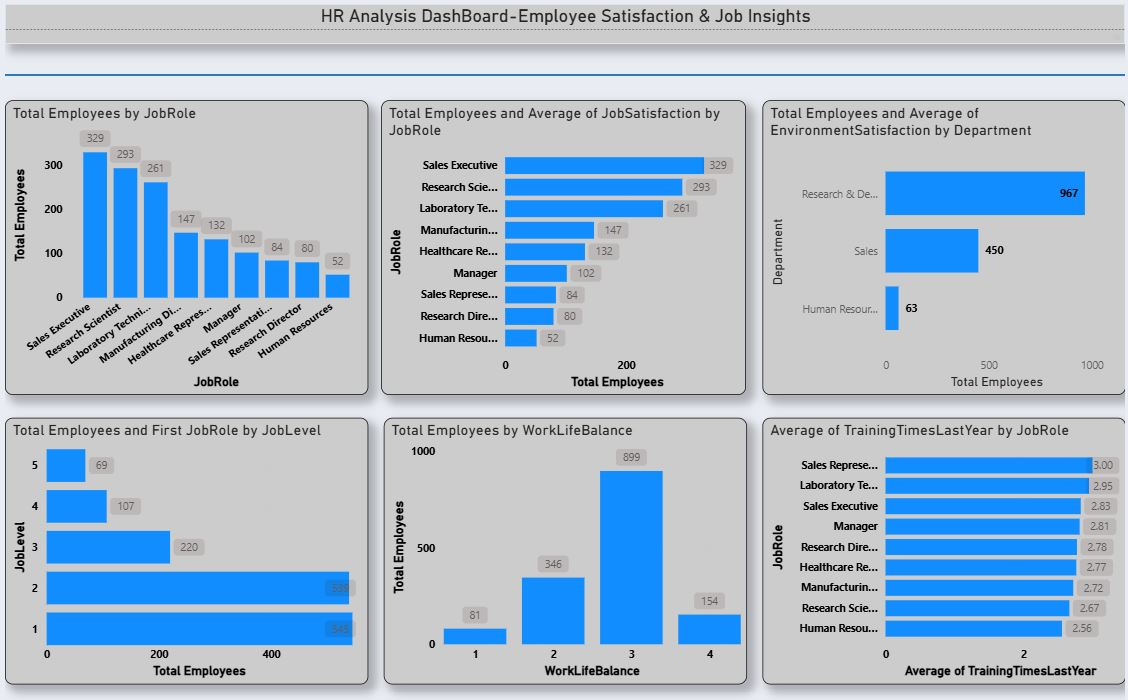

This screenshot's page, from the dashboard's own definition file:
{"tool":"powerbi","page":{"name":"Satisfaction & Job Insights","canvas":[1280,800],"ordinal":2},"visuals":[{"type":"textbox","title":"HR Analysis DashBoard-Employee Satisfaction & Job Insights","box":[0,0,1280.3,45.3],"z":0},{"type":"shape","box":[0,73.1,1280.3,16.6],"z":2000},{"type":"clusteredColumnChart","fields":{"Category":["HR_Analytics.JobRole"],"Y":["HR_Measure.Total Employees"]},"box":[0,110.4,415.3,336.6],"z":10000},{"type":"barChart","fields":{"Category":["HR_Analytics.JobRole"],"Y":["HR_Measure.Total Employees"]},"box":[430.4,110.4,416.6,336.6],"z":11000},{"type":"barChart","fields":{"Y":["HR_Measure.Total Employees"],"Category":["HR_Analytics.Department"]},"box":[865,110.4,415.3,336.6],"z":12000},{"type":"barChart","fields":{"Category":["HR_Analytics.JobLevel"],"Y":["HR_Measure.Total Employees"]},"box":[0,473.2,415.3,304.9],"z":13000},{"type":"clusteredBarChart","fields":{"Category":["HR_Analytics.JobRole"],"Y":["Avg(HR_Analytics.TrainingTimesLastYear)"]},"box":[865,473.2,415.3,304.9],"z":14000},{"type":"clusteredColumnChart","fields":{"Y":["HR_Measure.Total Employees"],"Category":["HR_Analytics.WorkLifeBalance"]},"box":[433.2,473.2,415.3,304.9],"z":15000}]}

Visuals, with their boxes in screenshot pixels (x1, y1, x2, y2), scaled from the page's 1280x800 canvas onto the 1128x700 screenshot:
"HR Analysis DashBoard-Employee Satisfaction & Job Insights" textbox: rect(0, 0, 1127, 40)
shape: rect(0, 64, 1127, 78)
clusteredColumnChart - HR_Analytics.JobRole x HR_Measure.Total Employees: rect(0, 97, 366, 391)
barChart - HR_Analytics.JobRole x HR_Measure.Total Employees: rect(379, 97, 746, 391)
barChart - HR_Measure.Total Employees x HR_Analytics.Department: rect(762, 97, 1127, 391)
barChart - HR_Analytics.JobLevel x HR_Measure.Total Employees: rect(0, 414, 366, 681)
clusteredBarChart - HR_Analytics.JobRole x Avg(HR_Analytics.TrainingTimesLastYear): rect(762, 414, 1127, 681)
clusteredColumnChart - HR_Measure.Total Employees x HR_Analytics.WorkLifeBalance: rect(382, 414, 748, 681)
